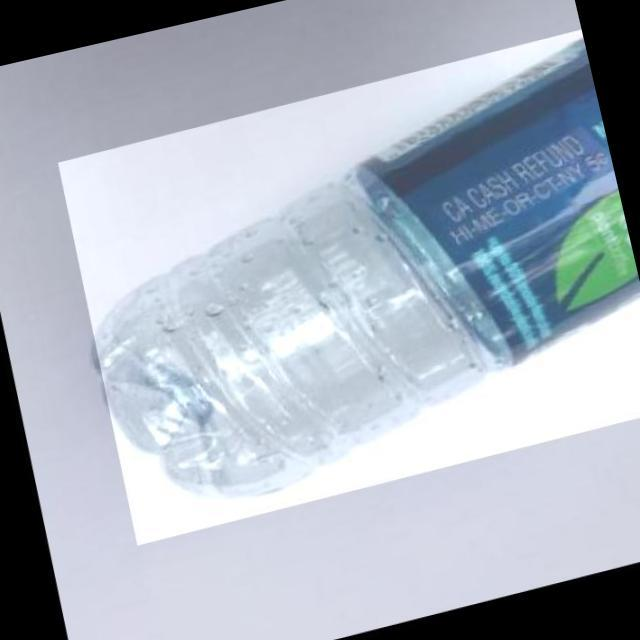good: (45, 31, 640, 545)
